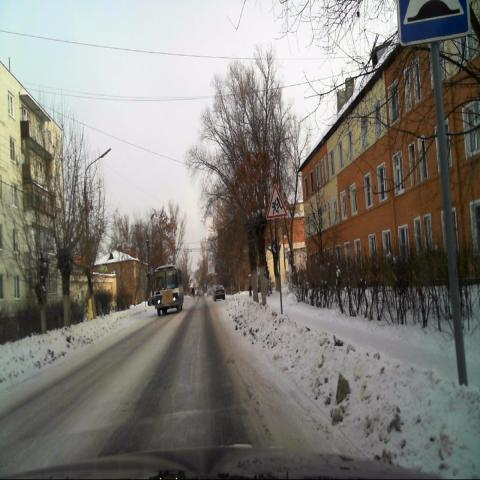1_23: (266, 183, 287, 219)
